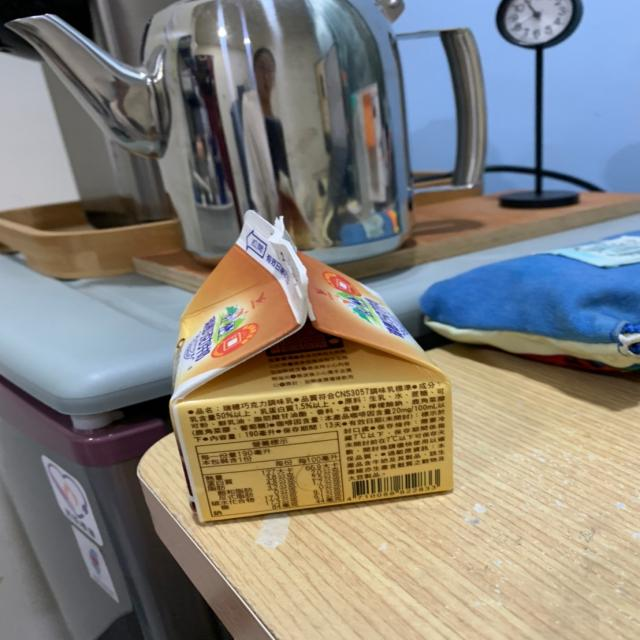non_white_jug: (131, 197, 492, 541)
